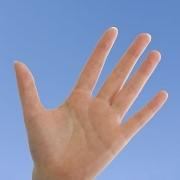pa-: (12, 26, 170, 180)
